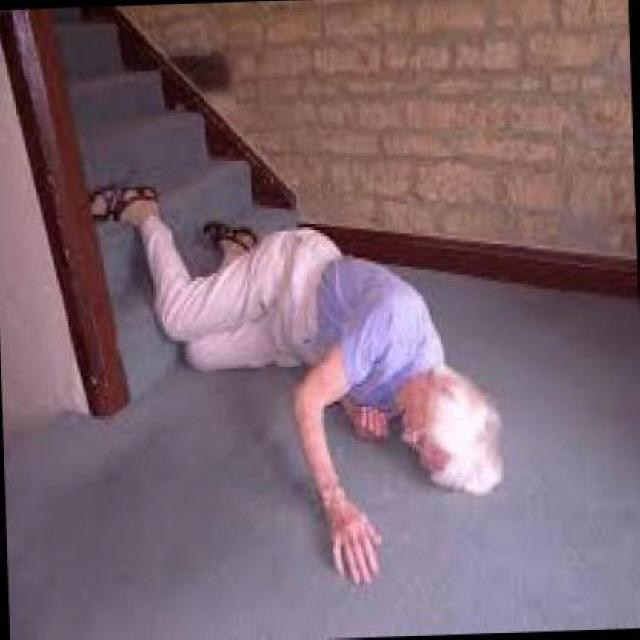Fall: (91, 186, 504, 586)
